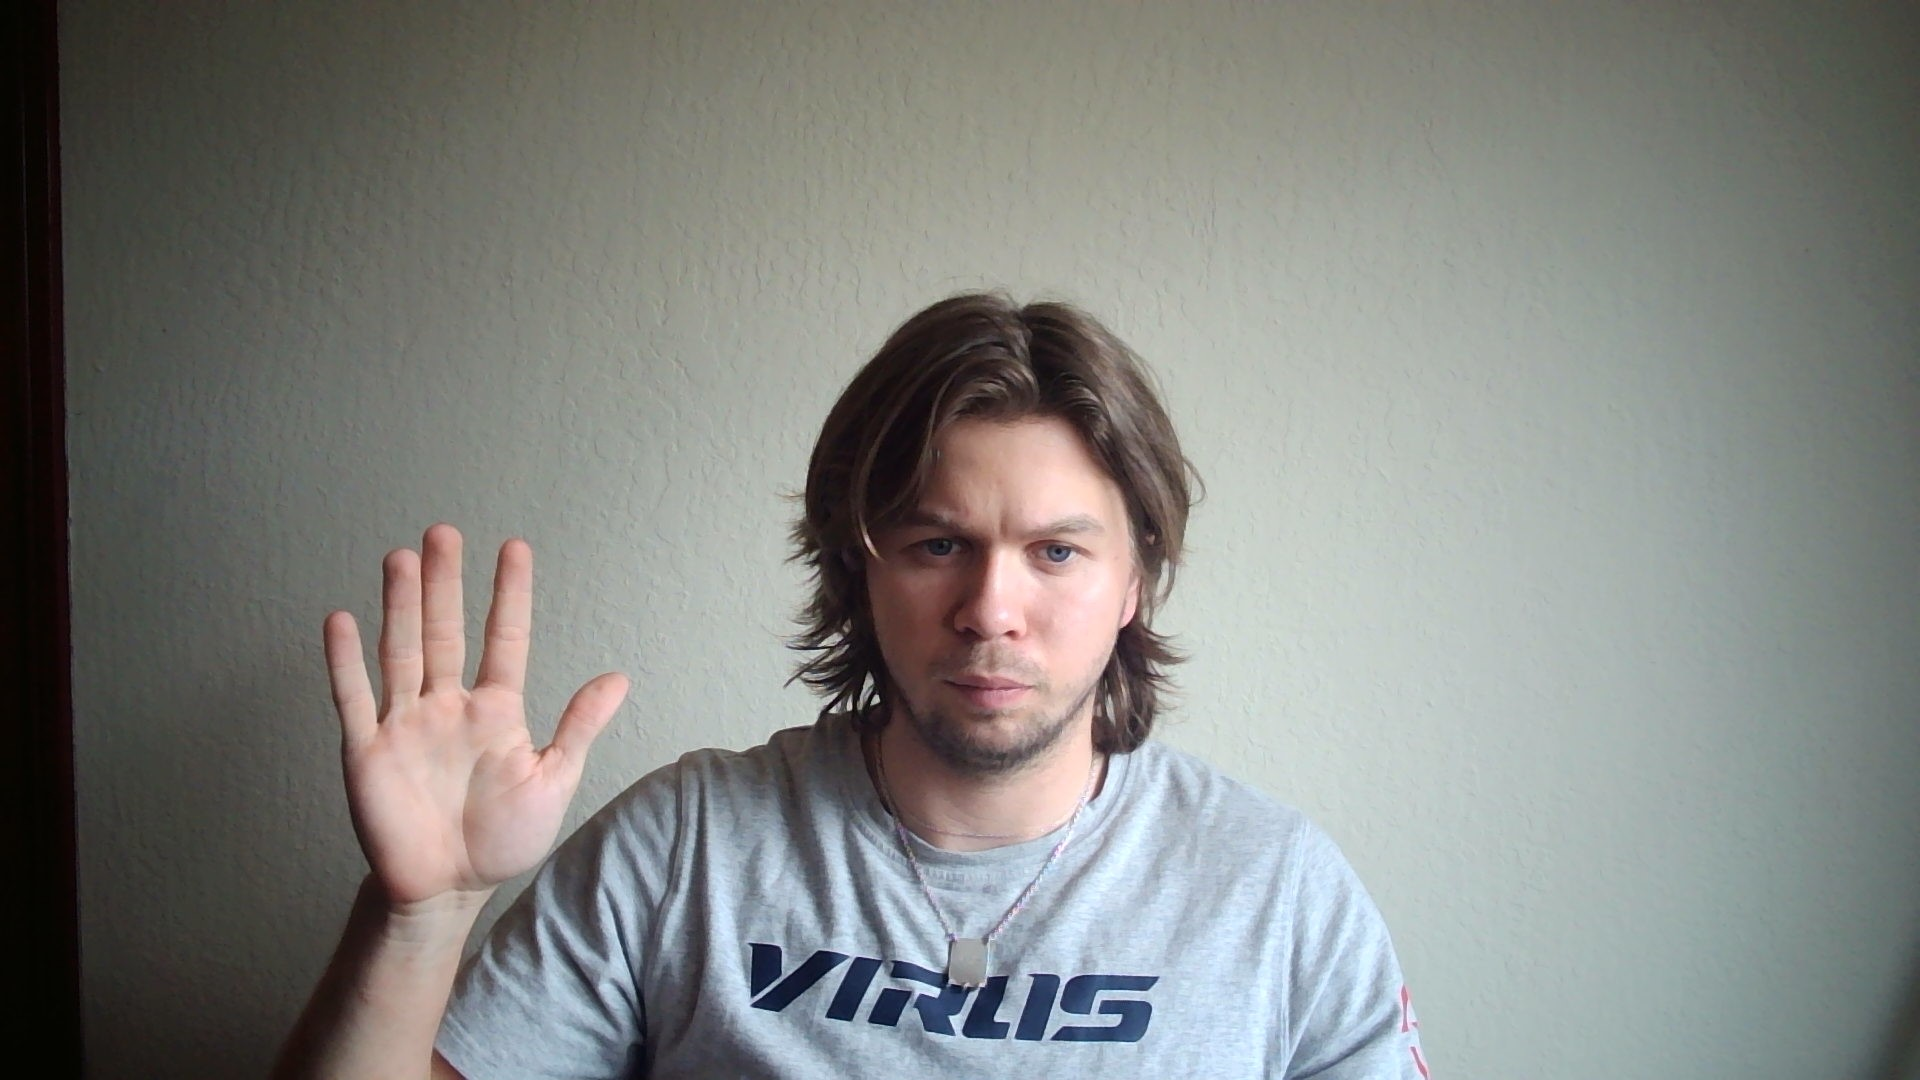hello: (324, 524, 630, 895)
